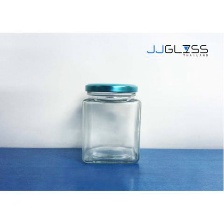bottle: (78, 78, 145, 173)
